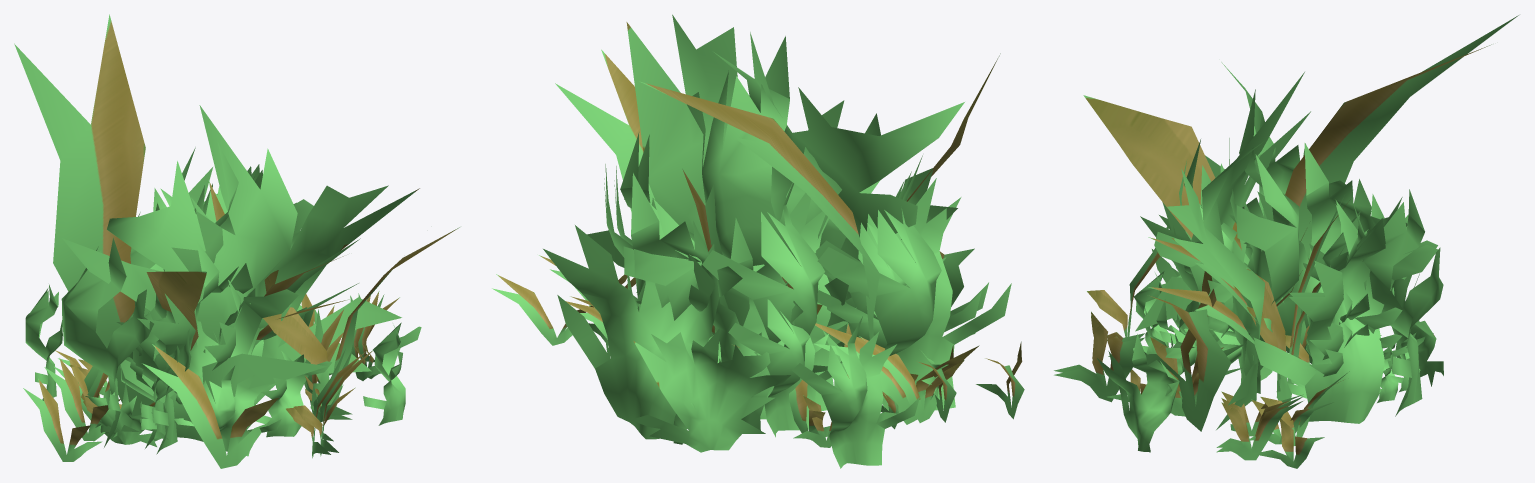
The model's file is grass_groupings_unity_uv_fixed_small.fbx.
3 renders of one model, left to right at view 1: azimuth 30°, elevation 25°; view 2: azimuth 150°, elevation 25°; view 3: azimuth 270°, elevation 25°, orthographic. The views are drawn at different scales.
Visible parts, largest first — view 1: Grass XL, Grass L, Grass M, Grass S, Grass XS; view 2: Grass XL, Grass L, Grass M, Grass XS, Grass S; view 3: Grass XL, Grass L, Grass M, Grass S, Grass XS.
Boxes of the visible parts, x1,y1,x2,y2 form: Grass XL: (14,14,459,461); Grass L: (25,142,380,454); Grass M: (44,180,421,468); Grass S: (81,283,358,456); Grass XS: (54,294,399,446); Grass XL: (539,14,1024,419); Grass L: (543,36,964,468); Grass M: (588,168,981,452); Grass XS: (492,264,948,444); Grass S: (627,239,981,424); Grass XL: (1054,15,1518,460); Grass L: (1150,89,1443,452); Grass M: (1054,163,1443,452); Grass S: (1133,242,1407,436); Grass XS: (1107,252,1433,468).
Size of the model in its own units: 63.4 by 49.01 by 60.47.
